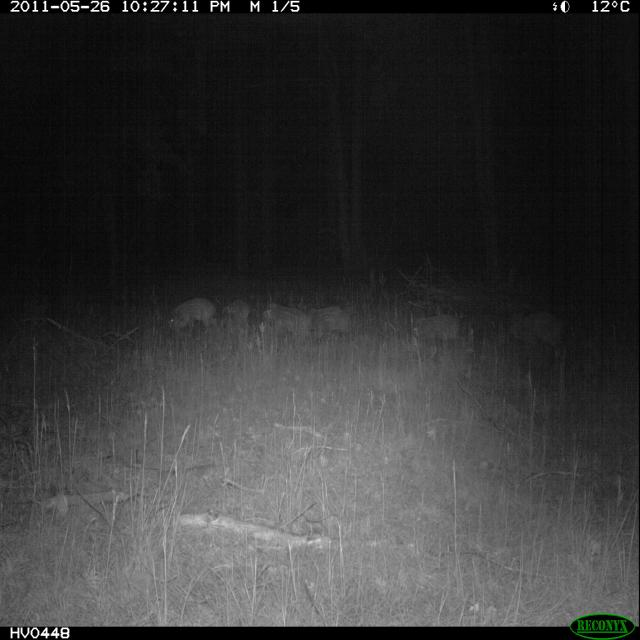boar: (254, 283, 322, 369), (402, 294, 480, 359), (155, 285, 221, 356), (289, 296, 359, 341)
